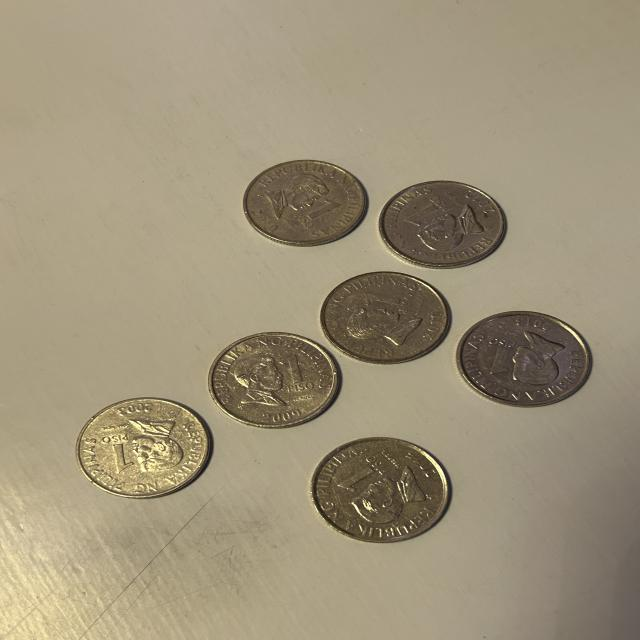1_Old_Front: (268, 349, 322, 400), (332, 455, 398, 495), (354, 287, 415, 328), (96, 427, 144, 476), (289, 187, 343, 230), (486, 331, 522, 390), (399, 206, 454, 243)
